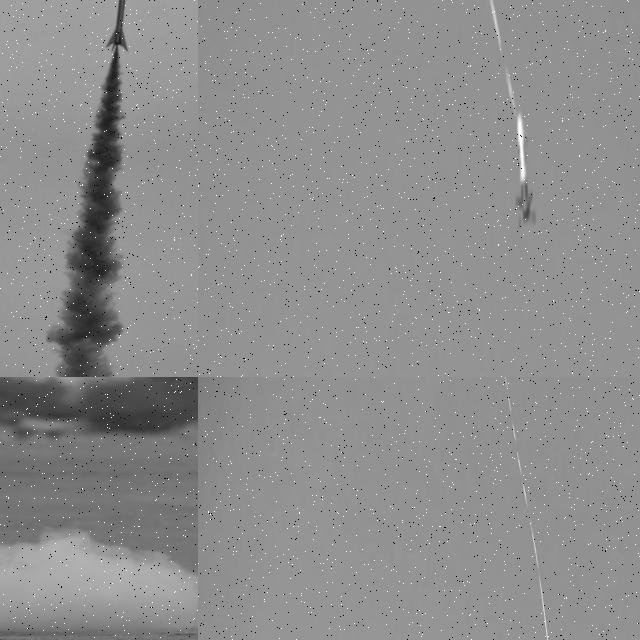Rocket: (514, 113, 537, 228), (105, 0, 129, 52)
